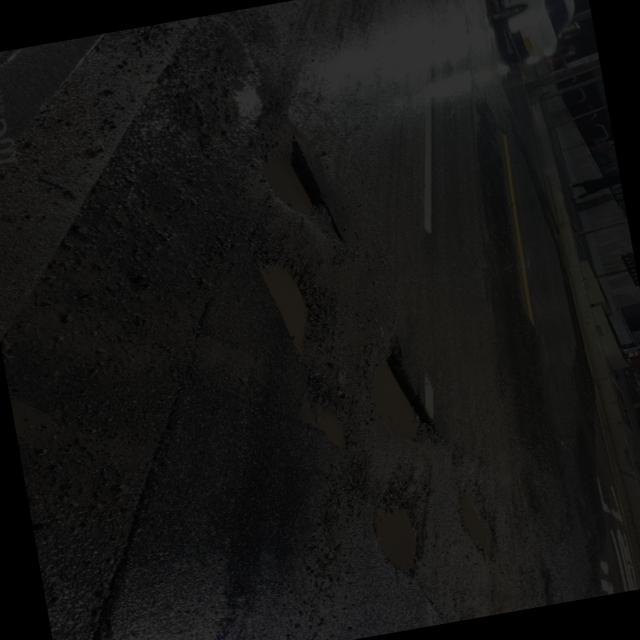pothole: (226, 92, 354, 238), (238, 240, 340, 370), (358, 344, 456, 446), (362, 484, 438, 589), (445, 472, 522, 564), (282, 390, 362, 465)
